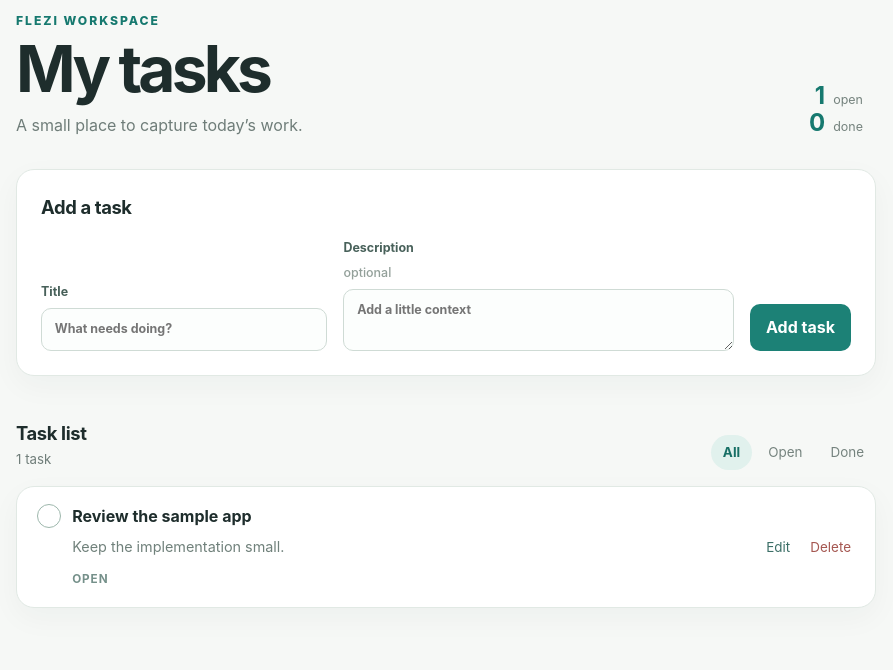
Test: task manager › reconciles a task deleted in another tab
The width and height of the screenshot is (893, 670).
Click the button "Delete" at (831, 547), box [806,533,855,561]
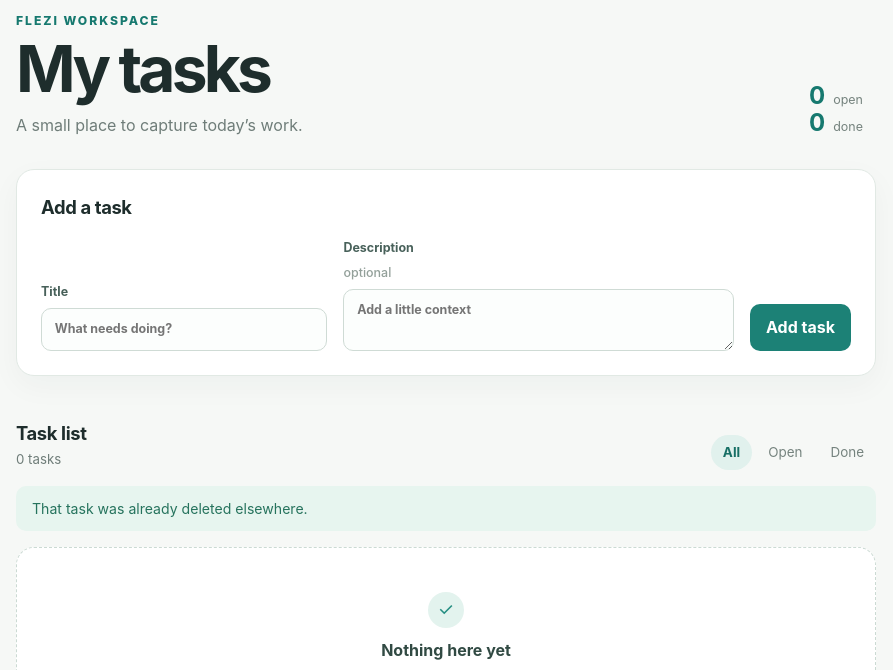
Result: the message shows "already deleted elsewhere" at [32,500,308,517]
Result: the heading "Review the sample app" is gone
